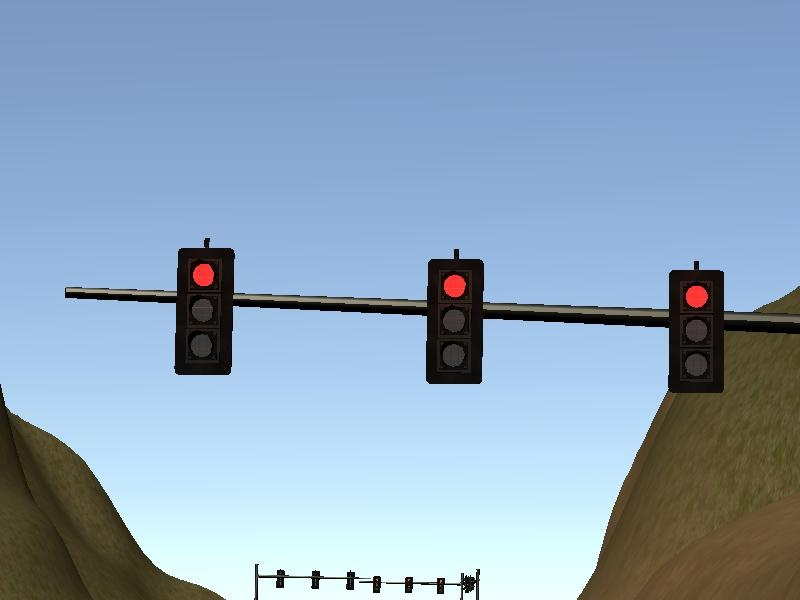red: (426, 260, 485, 384), (178, 250, 234, 376), (670, 271, 724, 395)
